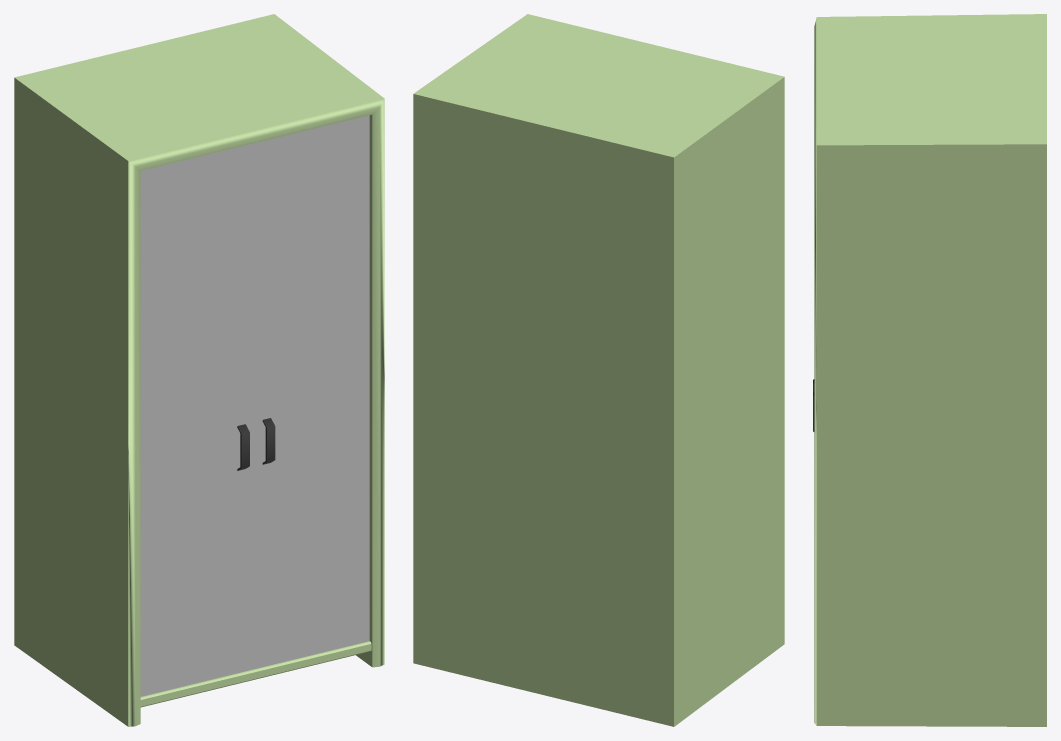
File: Almari_02.fbx
The picture shows the model from 3 angles, left to right: view 1: azimuth 30°, elevation 25°; view 2: azimuth 150°, elevation 25°; view 3: azimuth 270°, elevation 25°; orthographic projection. The views are drawn at different scales.
Visible parts, largest first — view 1: Almari_02; view 2: Almari_02; view 3: Almari_02.
Part boxes in pixels (x1=…): Almari_02: x1=14, y1=14, x2=384, y2=726; Almari_02: x1=413, y1=14, x2=784, y2=726; Almari_02: x1=813, y1=14, x2=1046, y2=726.
Size of the model in its own units: 189 by 394 by 143.
